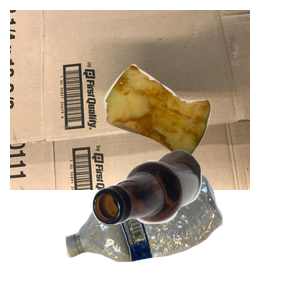cardboard: (10, 10, 250, 190)
glass: (90, 148, 300, 300)
plastic: (63, 170, 278, 300)
trash: (101, 62, 300, 217)
